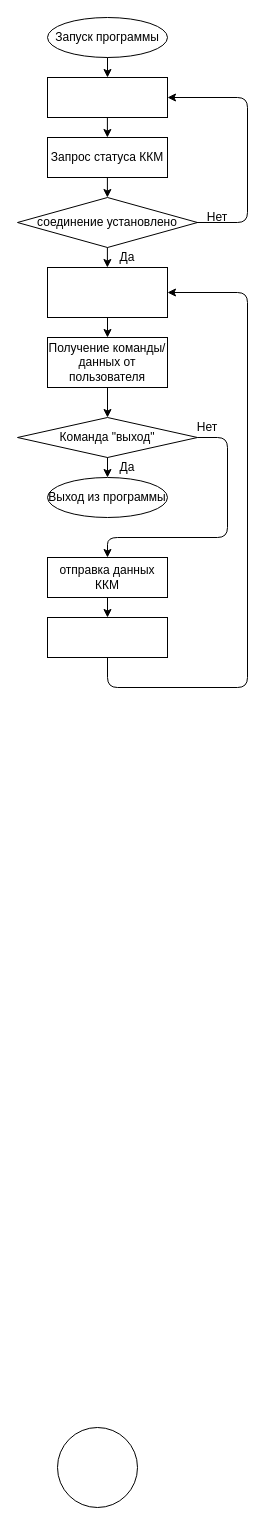
Some shapes in this 273 by 1525 pixel diagram are drawn without their labels. Each missing label, with the centre of its shape:
"Настройка подключения к ККМ" goes at pixel 107 97.
"отображение текущего состояния ККМ" goes at pixel 107 292.
"Получение ответа от ККМ" goes at pixel 107 637.
